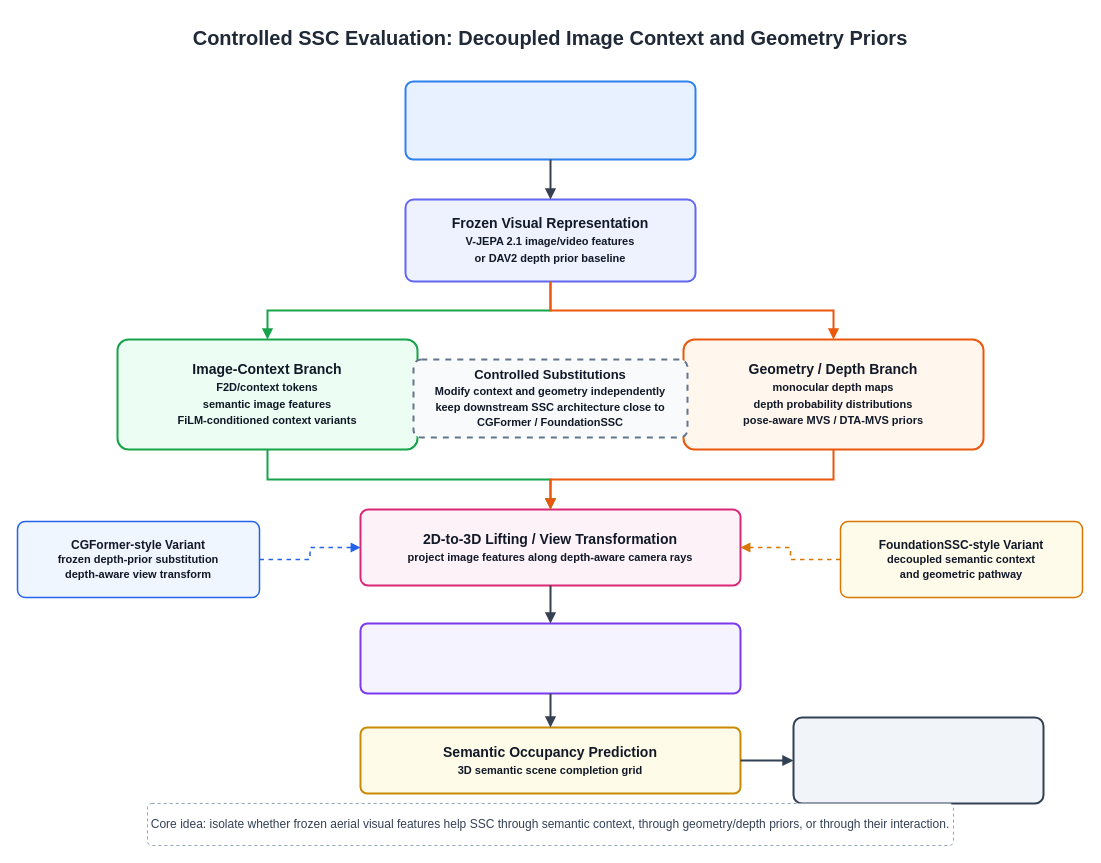
This 1101x863 diagram has some shape labels left out. The centre of each missing label's shape, as x and y in pixels:
3D Feature Fusion / Encoder local-global 3D reasoning, axis-aware/hybrid fusion: pixel 550 658
Benchmark Outputs SC IoU, SSC mIoU per-class IoU, altitude/scene slices: pixel 918 760
OccuFly Inputs RGB frame / video clip camera intrinsics, altitude, poses: pixel 550 120
